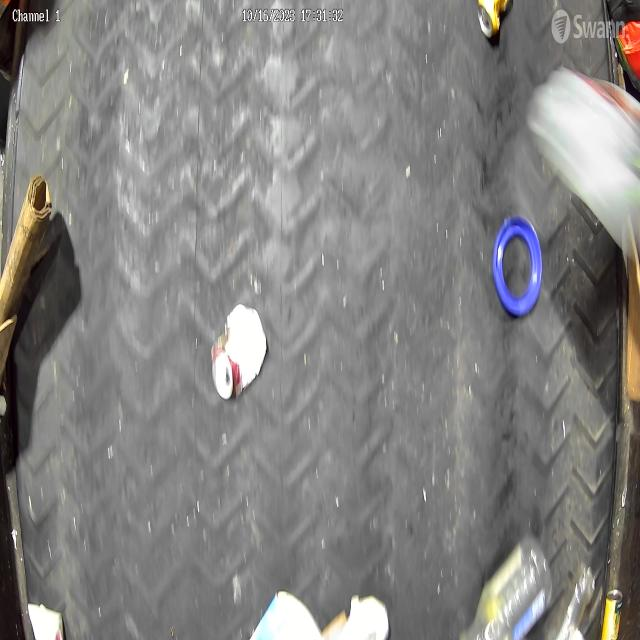can: (204, 300, 274, 408)
plastic_bottle: (457, 536, 557, 640)
